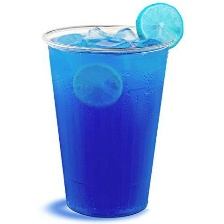glass: (32, 19, 188, 224)
